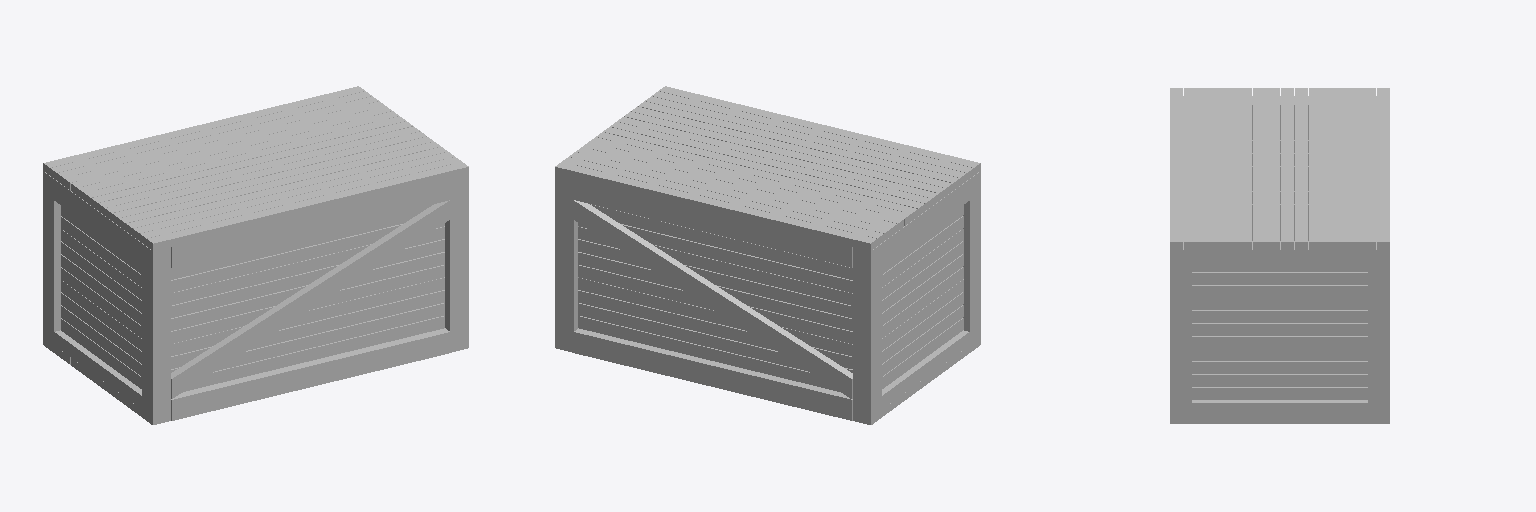
The model's file is chest3.obj.
The picture shows the model from 3 angles: view 1: azimuth 30°, elevation 25°; view 2: azimuth 150°, elevation 25°; view 3: azimuth 270°, elevation 25°; orthographic projection.
Visible parts, largest first — view 1: WoodenBox_WoodenBox_WoodenBox7, WoodenBox_WoodenBox_WoodenBox1, WoodenBox_WoodenBox_WoodenBox5, WoodenBox_WoodenBox_WoodenBox2, WoodenBox_WoodenBox_WoodenBox8, WoodenBox_WoodenBox_WoodenBox4, WoodenBox_WoodenBox_WoodenBox3, WoodenBox_WoodenBox_WoodenBox6; view 2: WoodenBox_WoodenBox_WoodenBox7, WoodenBox_WoodenBox_WoodenBox1, WoodenBox_WoodenBox_WoodenBox5, WoodenBox_WoodenBox_WoodenBox2, WoodenBox_WoodenBox_WoodenBox8, WoodenBox_WoodenBox_WoodenBox4, WoodenBox_WoodenBox_WoodenBox3, WoodenBox_WoodenBox_WoodenBox6; view 3: WoodenBox_WoodenBox_WoodenBox7, WoodenBox_WoodenBox_WoodenBox2, WoodenBox_WoodenBox_WoodenBox6, WoodenBox_WoodenBox_WoodenBox3.
Part boxes in pixels (x1,y1,x2,y2): WoodenBox_WoodenBox_WoodenBox7: (43,86,468,416); WoodenBox_WoodenBox_WoodenBox1: (171,204,444,391); WoodenBox_WoodenBox_WoodenBox5: (171,179,449,420); WoodenBox_WoodenBox_WoodenBox2: (61,206,141,388); WoodenBox_WoodenBox_WoodenBox8: (43,171,170,424); WoodenBox_WoodenBox_WoodenBox4: (171,200,449,398); WoodenBox_WoodenBox_WoodenBox3: (445,175,468,352); WoodenBox_WoodenBox_WoodenBox6: (54,179,142,408); WoodenBox_WoodenBox_WoodenBox7: (555,86,980,416); WoodenBox_WoodenBox_WoodenBox1: (578,204,852,391); WoodenBox_WoodenBox_WoodenBox5: (574,179,852,420); WoodenBox_WoodenBox_WoodenBox2: (882,205,963,388); WoodenBox_WoodenBox_WoodenBox8: (853,171,980,424); WoodenBox_WoodenBox_WoodenBox4: (574,200,852,398); WoodenBox_WoodenBox_WoodenBox3: (555,175,578,352); WoodenBox_WoodenBox_WoodenBox6: (882,179,969,408); WoodenBox_WoodenBox_WoodenBox7: (1170,88,1389,249); WoodenBox_WoodenBox_WoodenBox2: (1192,127,1367,399); WoodenBox_WoodenBox_WoodenBox6: (1192,96,1367,423); WoodenBox_WoodenBox_WoodenBox3: (1170,241,1389,423).
Bounding box in the file's own units: 3.37 × 1.85 × 2.03.